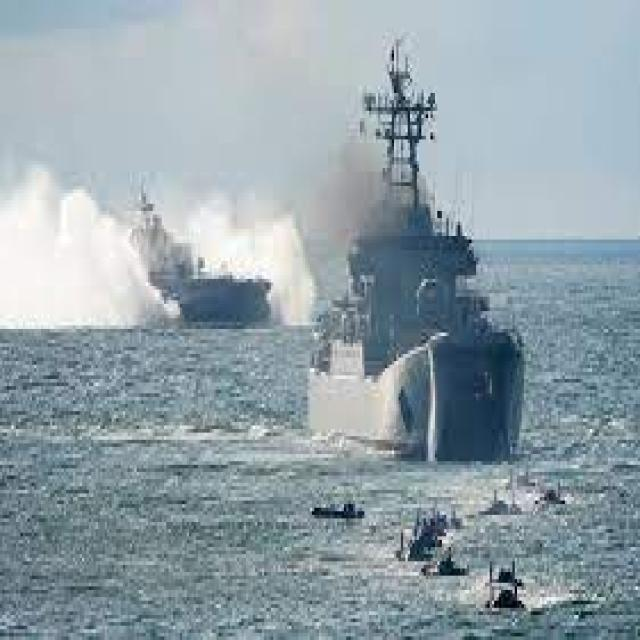navalvessels: (294, 26, 526, 462), (140, 198, 266, 335)
